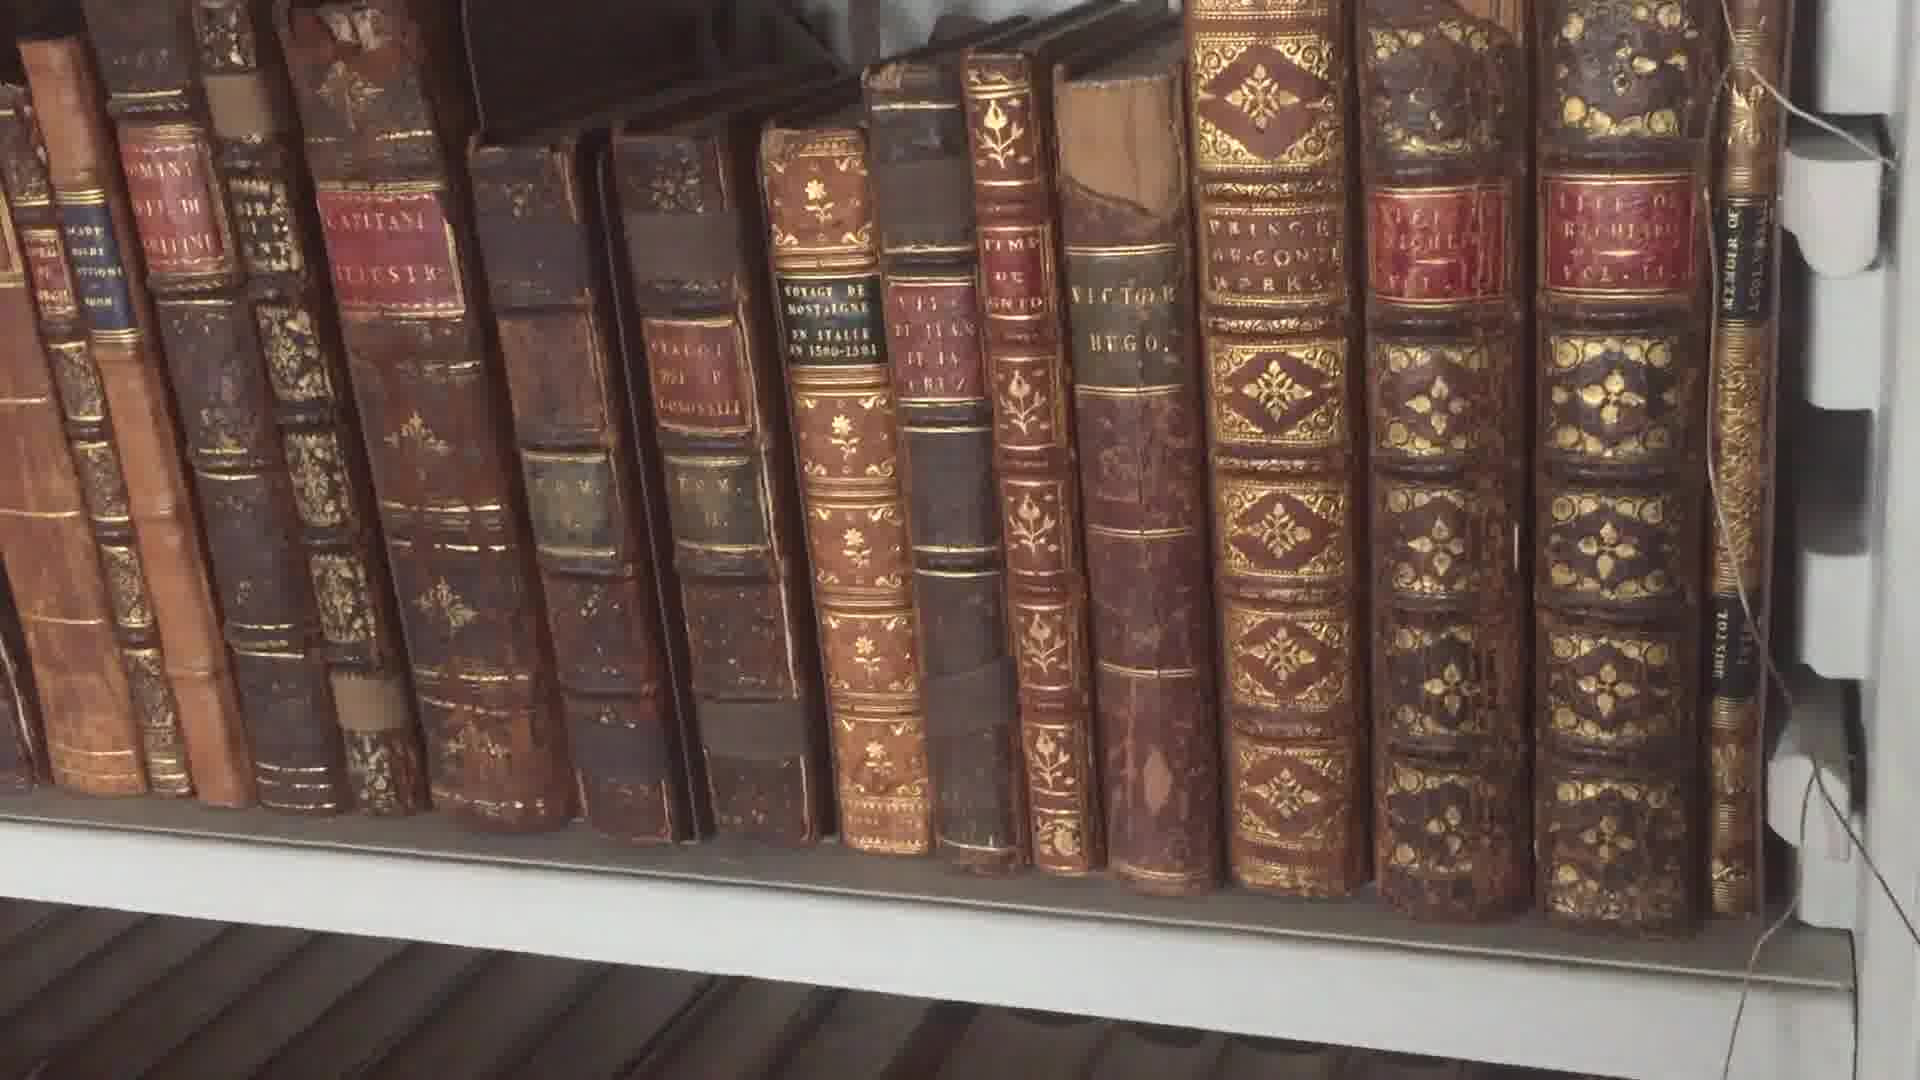Aa6-38: (277, 7, 564, 829)
Aa6-39_40: (440, 136, 819, 844)
Aa6-41: (721, 105, 924, 870)
Aa6-42: (848, 58, 1065, 890)
Aa6-43: (938, 46, 1124, 866)
Aa6-44: (1048, 73, 1255, 897)
Aa6-45: (1170, 1, 1377, 907)
Aa6-46-47: (1360, 7, 1706, 934)
Aa6-48: (1716, 9, 1775, 951)
